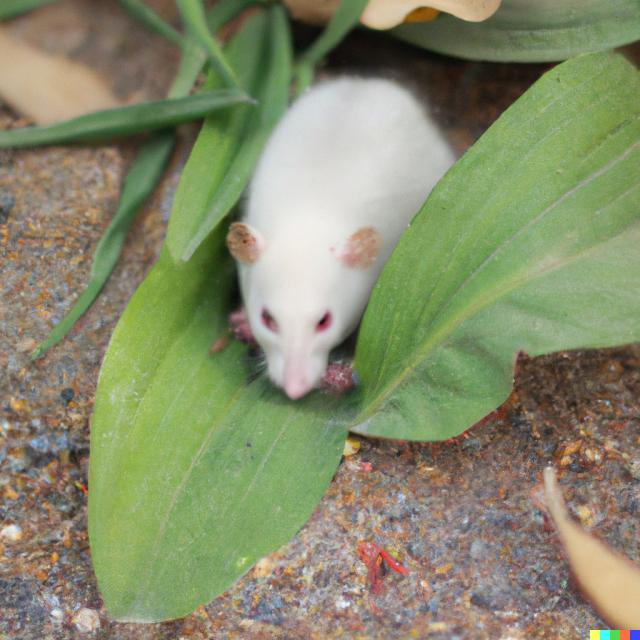rodents: (205, 42, 466, 432)
